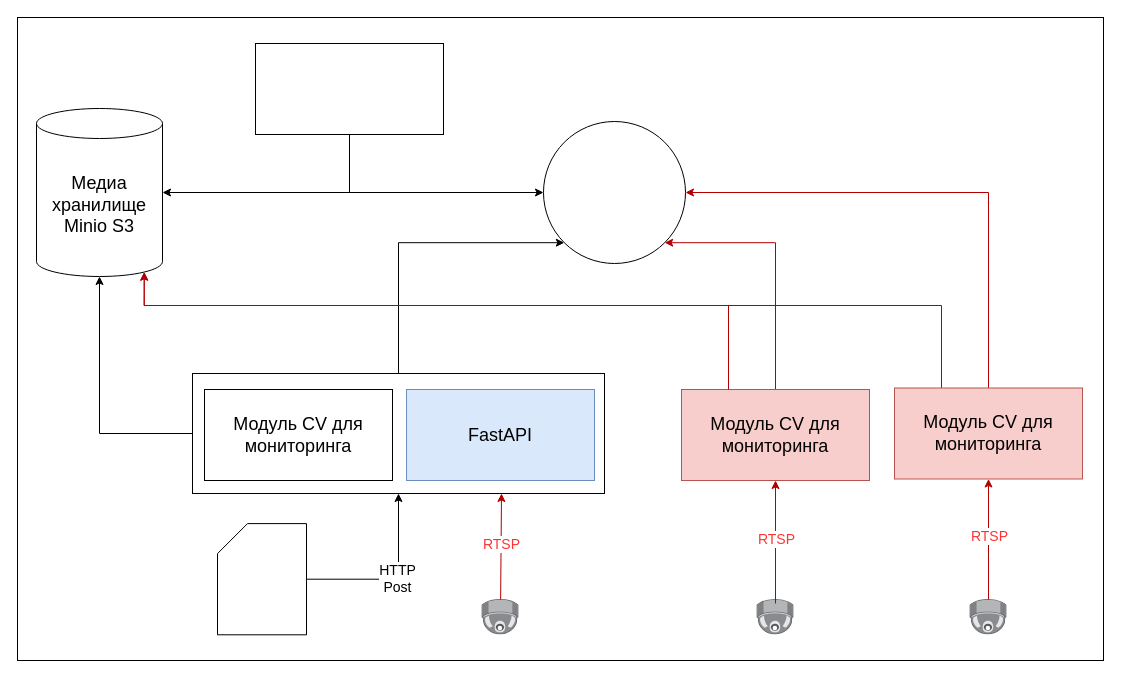
The diagram is 1121 pixels wide and 678 high, and some of its shapes have lost their labels. The shapes that lost their labels are listed below. From the top down, each one's box as (x1, y1, x2, y2) in pixels, then its label:
(254, 42, 444, 134): Потребители
(542, 120, 686, 264): Брокер Kafka
(216, 523, 306, 635): Video / Image
